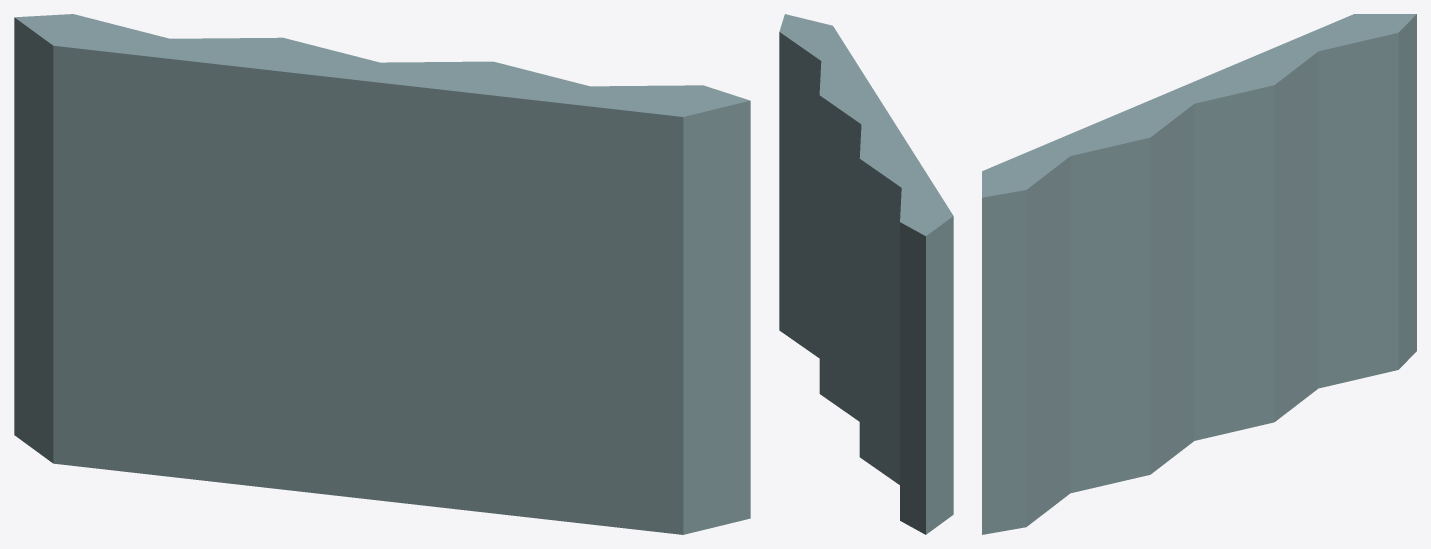
Rendered from cliff_diagonal_stone.glb.
3 renders of one model, left to right at view 1: azimuth 30°, elevation 25°; view 2: azimuth 150°, elevation 25°; view 3: azimuth 270°, elevation 25°, orthographic. The views are drawn at different scales.
Parts seen in each view (by area): view 1: cliff_diagonal_stone; view 2: cliff_diagonal_stone; view 3: cliff_diagonal_stone.
Part boxes in pixels (<box>): cliff_diagonal_stone: <box>14,14,750,534</box>; cliff_diagonal_stone: <box>779,14,953,534</box>; cliff_diagonal_stone: <box>982,14,1416,534</box>.
Size of the model in its own units: 1.17 by 1 by 1.17.
